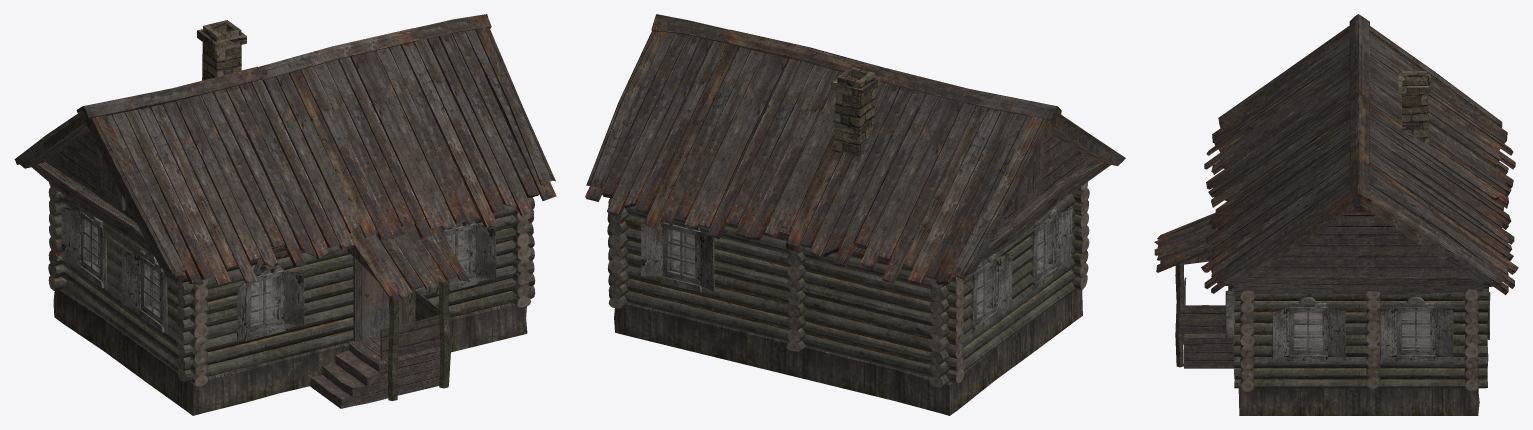
The model's file is plaster_house.glb.
3 views of the same model, side by side, from view 1: azimuth 30°, elevation 25°; view 2: azimuth 150°, elevation 25°; view 3: azimuth 270°, elevation 25° (orthographic). The views are drawn at different scales.
Parts seen in each view (by area): view 1: geom_old_house_2, geom_window_oh_1.004, geom_window_oh_1.008, geom_window_oh_1.001, geom_window_oh_1.000, door; view 2: geom_old_house_2, geom_window_oh_1.005, geom_window_oh_1.008, geom_window_oh_1.001; view 3: geom_old_house_2, geom_window_oh_1.009, geom_window_oh_1.007, geom_window_oh_1.000.
Boxes of the visible parts, x1=… form: geom_old_house_2: x1=14, y1=14, x2=556, y2=415; geom_window_oh_1.004: x1=237, y1=258, x2=304, y2=342; geom_window_oh_1.008: x1=122, y1=250, x2=167, y2=334; geom_window_oh_1.001: x1=61, y1=207, x2=107, y2=289; geom_window_oh_1.000: x1=428, y1=220, x2=496, y2=295; door: x1=353, y1=257, x2=409, y2=341; geom_old_house_2: x1=585, y1=14, x2=1125, y2=415; geom_window_oh_1.005: x1=641, y1=218, x2=714, y2=292; geom_window_oh_1.008: x1=1030, y1=208, x2=1072, y2=291; geom_window_oh_1.001: x1=970, y1=252, x2=1012, y2=335; geom_old_house_2: x1=1154, y1=14, x2=1518, y2=415; geom_window_oh_1.009: x1=1380, y1=297, x2=1453, y2=361; geom_window_oh_1.007: x1=1272, y1=297, x2=1345, y2=361; geom_window_oh_1.000: x1=1225, y1=285, x2=1234, y2=338.
Bounding box in the file's own units: 8.58 × 5.77 × 7.59.
Materials: 15 (15 with a texture image).
